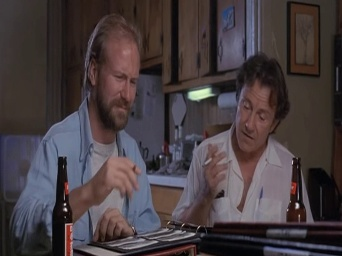smoke: (200, 153, 216, 168)
